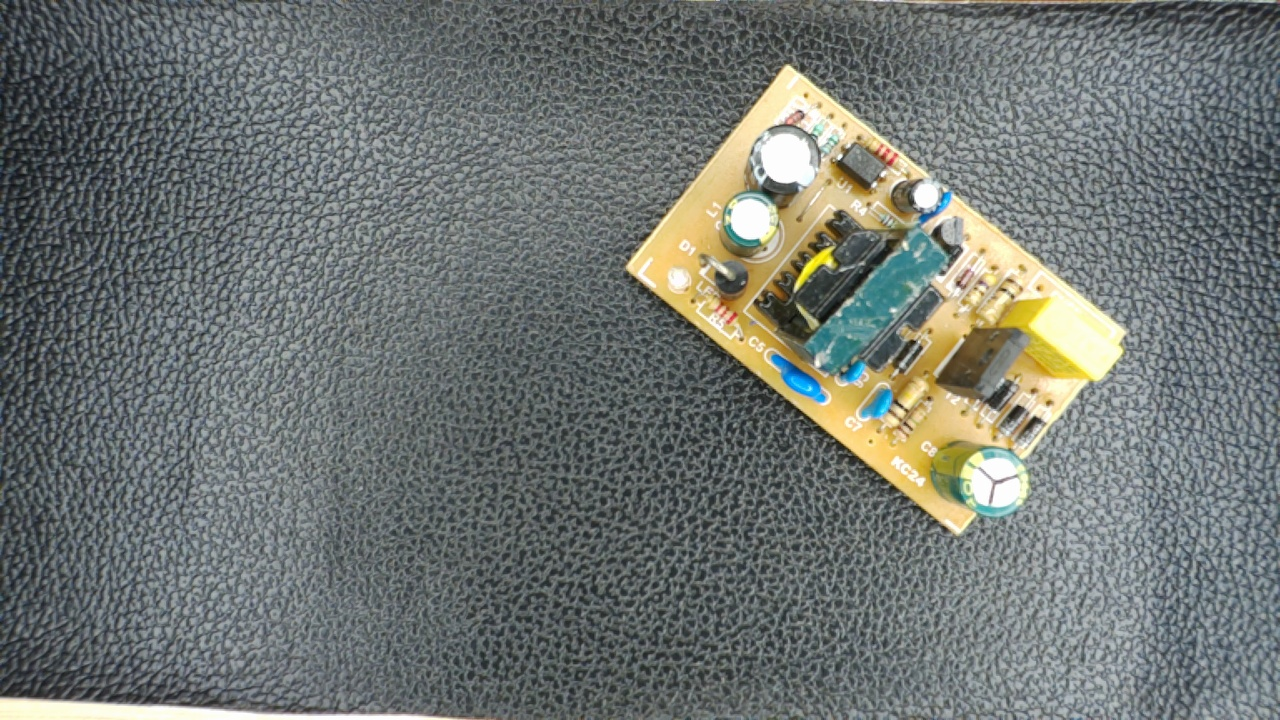hv_capacitor: (927, 438, 1032, 521)
mov: (765, 348, 833, 404)
optocoupler: (830, 141, 890, 192)
